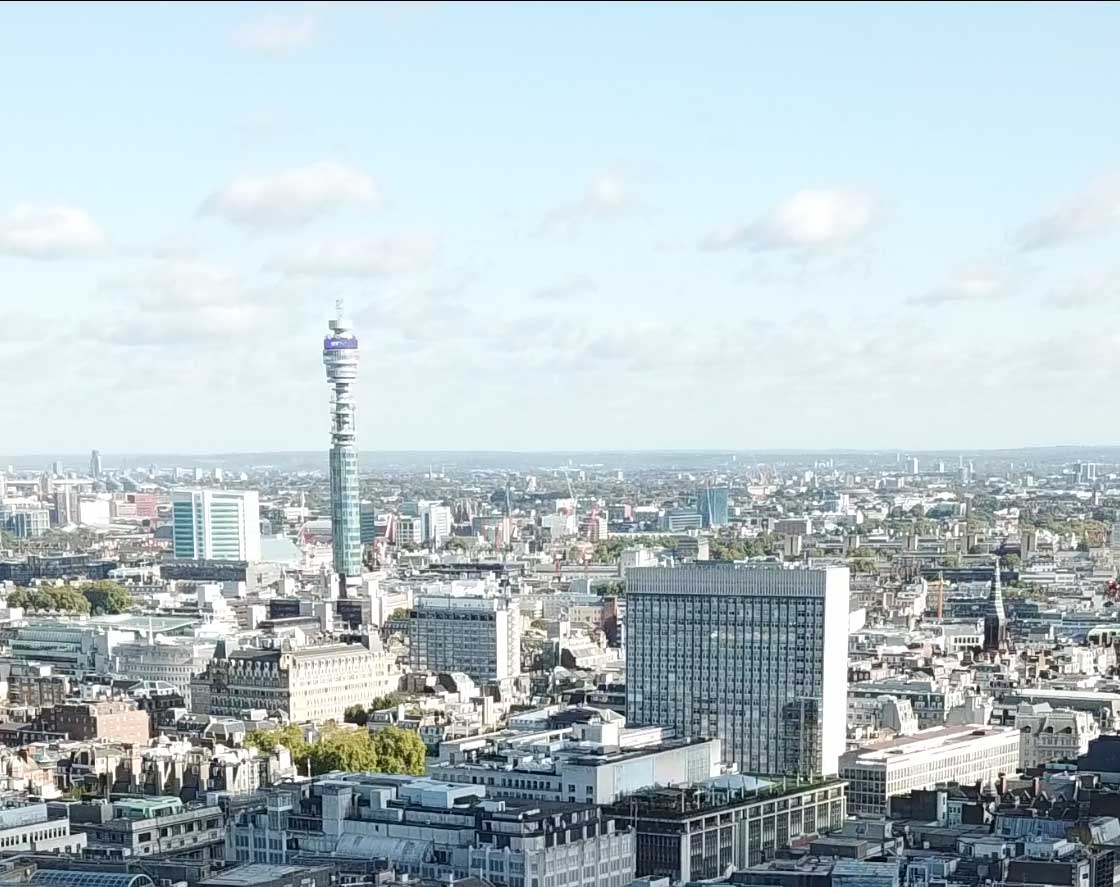building: (618, 561, 882, 788), (183, 608, 412, 725)
